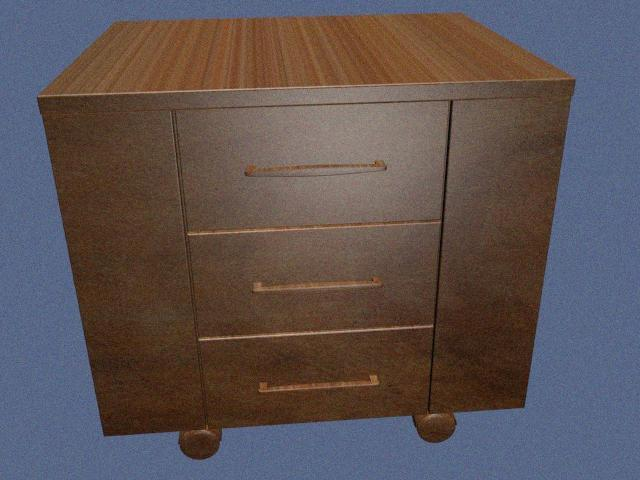cabinet_door: (179, 106, 446, 228), (192, 228, 438, 332), (202, 332, 432, 422)
handle: (241, 150, 391, 186), (246, 269, 389, 299), (255, 369, 383, 399)
